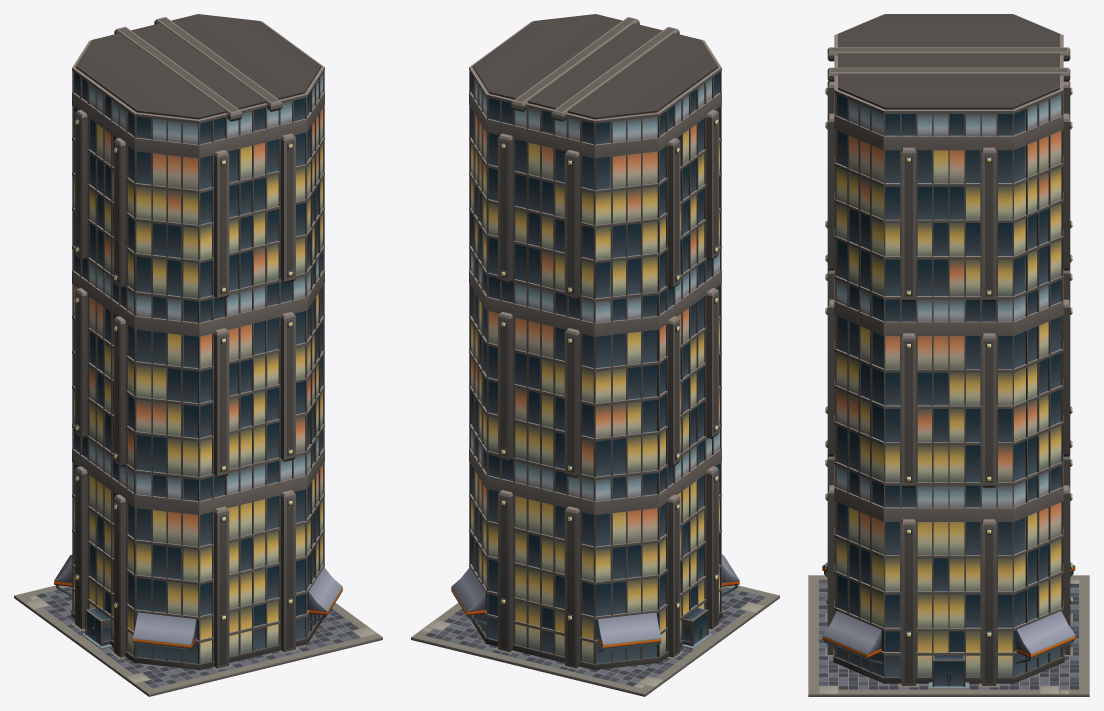
Rendered from Skyscraper_1B.fbx.
The picture shows the model from 3 angles, left to right: view 1: azimuth 30°, elevation 25°; view 2: azimuth 150°, elevation 25°; view 3: azimuth 270°, elevation 25°; orthographic projection. The views are drawn at different scales.
Visible parts, largest first — view 1: Skyscraper_1B, Window_Lights_Skyscraper_1B, Skyscraper_Canopy_1B; view 2: Skyscraper_1B, Window_Lights_Skyscraper_1B, Skyscraper_Canopy_1B; view 3: Skyscraper_1B, Window_Lights_Skyscraper_1B, Skyscraper_Canopy_1B.
Part boxes in pixels (<box>): Skyscraper_1B: <box>14,14,382,696</box>; Window_Lights_Skyscraper_1B: <box>74,73,322,663</box>; Skyscraper_Canopy_1B: <box>54,554,342,651</box>; Skyscraper_1B: <box>411,14,779,696</box>; Window_Lights_Skyscraper_1B: <box>471,78,719,663</box>; Skyscraper_Canopy_1B: <box>451,554,739,651</box>; Skyscraper_1B: <box>808,14,1089,696</box>; Window_Lights_Skyscraper_1B: <box>836,94,1061,676</box>; Skyscraper_Canopy_1B: <box>822,564,1075,663</box>.
Size of the model in its own units: 28 by 63.4 by 28.
